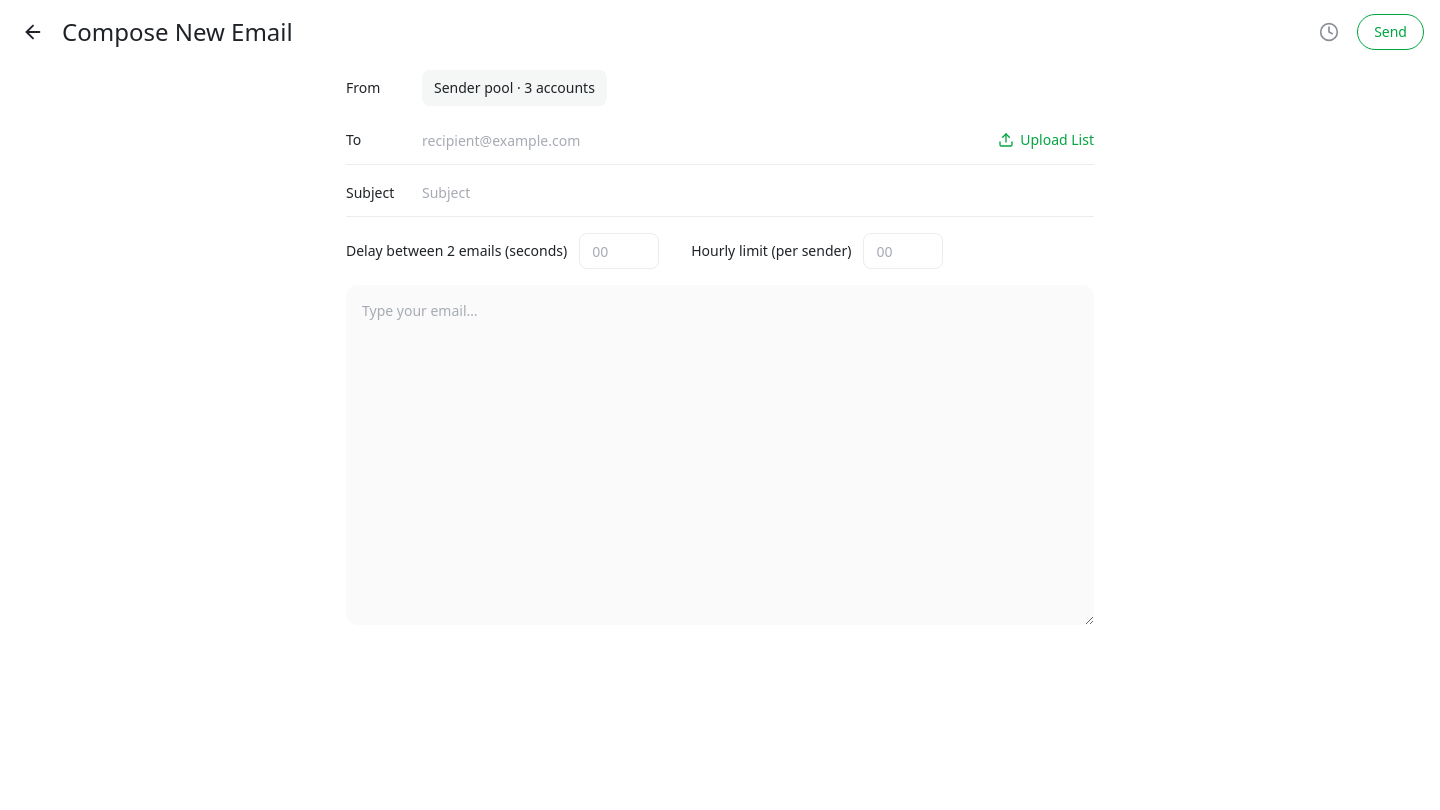
Test case: compose page › delay below 1 second and a fractional limit are rejected
Type "a@x.io, b@x.io" into the field labelled "To".
click(704, 140); type("a@x.io, b@x.io")  # box [422,124,986,156]
Then press Enter
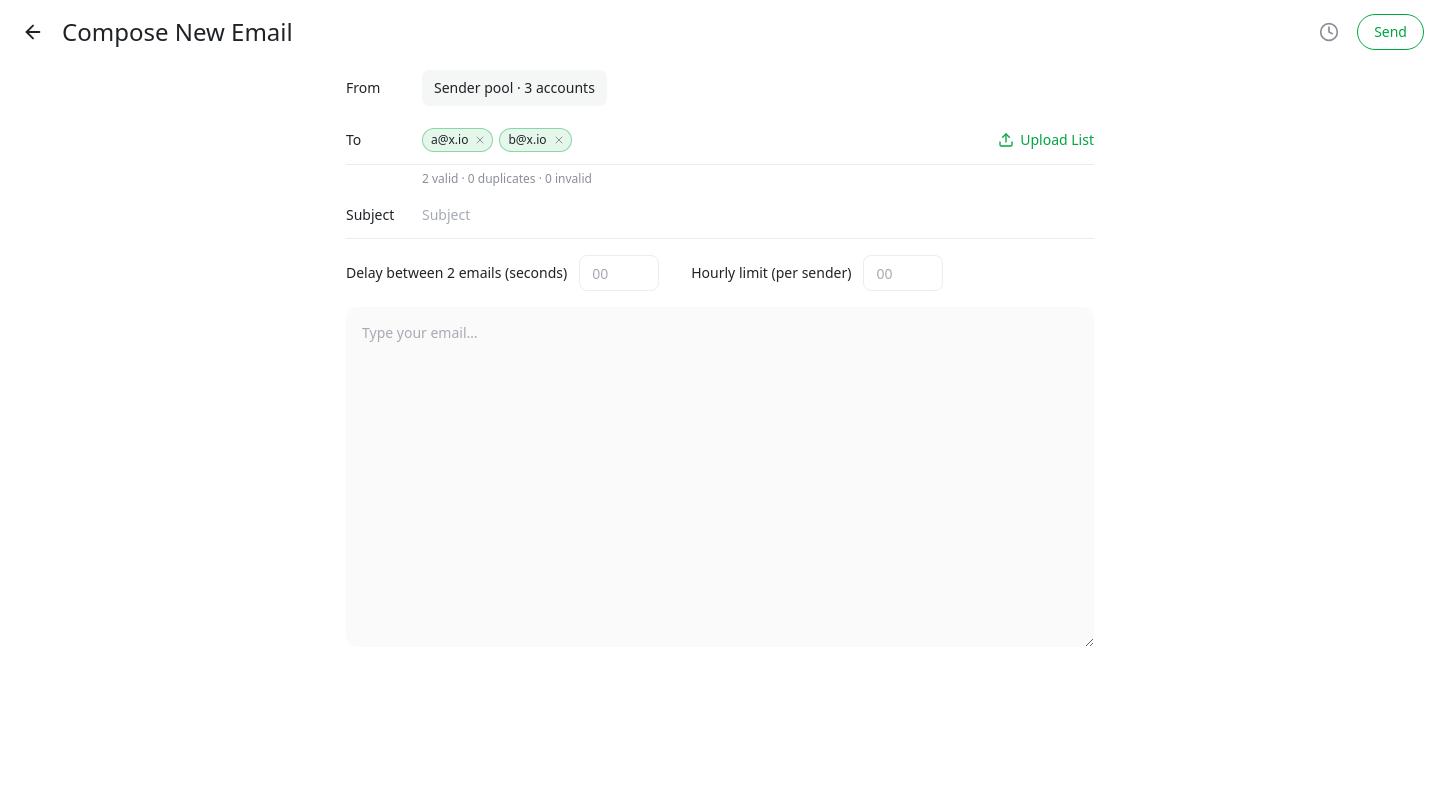
Type "Quarterly update" into the field labelled "Subject".
click(758, 214); type("Quarterly update")  # box [422,192,1094,236]
Type "2" into the number field labelled "Delay between 2 emails (seconds)".
click(619, 273); type("2")  # box [579,255,659,291]
Type "1" into the number field labelled "Hourly limit (per sender)".
click(903, 273); type("1")  # box [863,255,943,291]
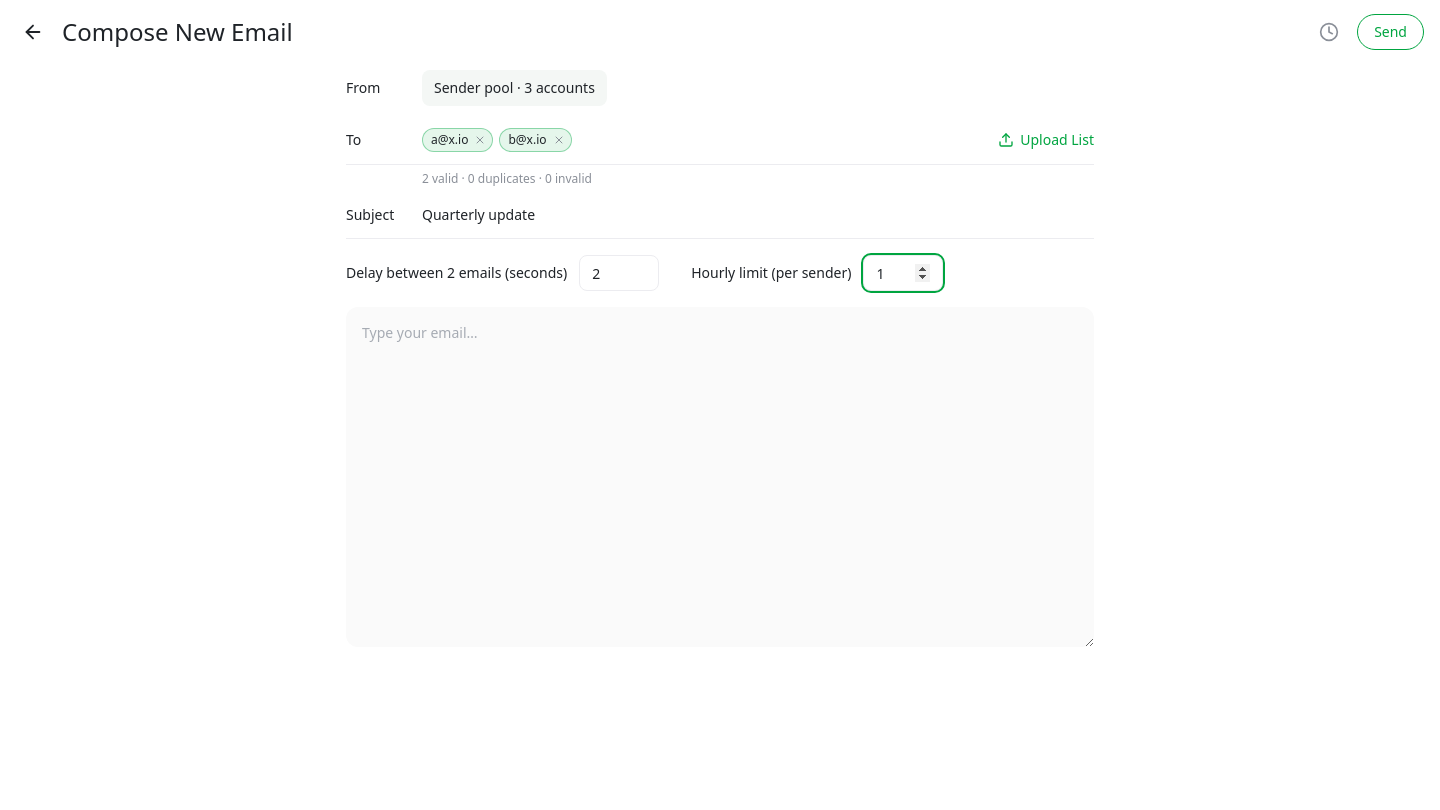
Type "Hi there" into the text box named "Body".
click(720, 477); type("Hi there")  # box [346,307,1094,647]
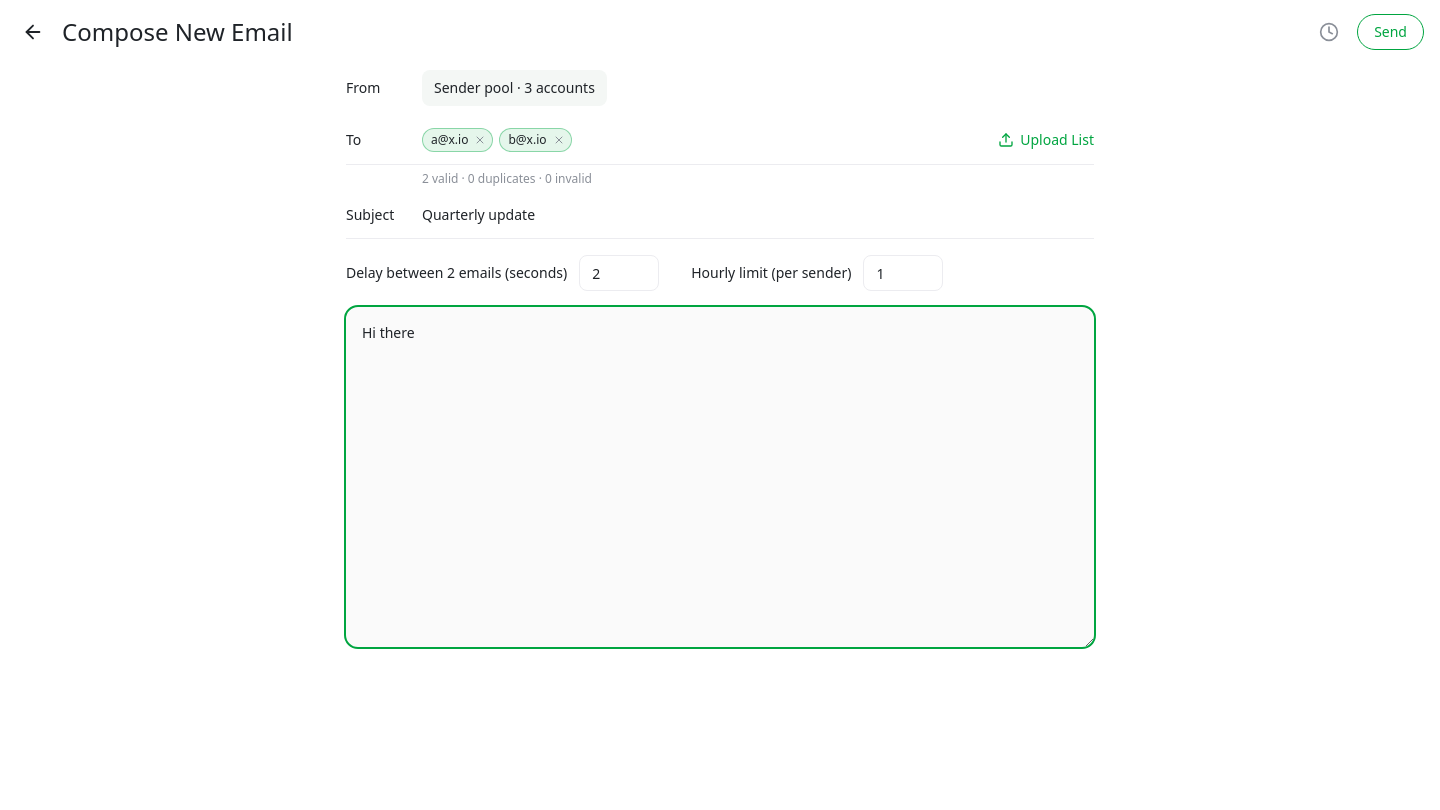
Replace the text in the number field labelled "Delay between 2 emails (seconds)" with "0.5" at (619, 273), box [579,255,659,291]
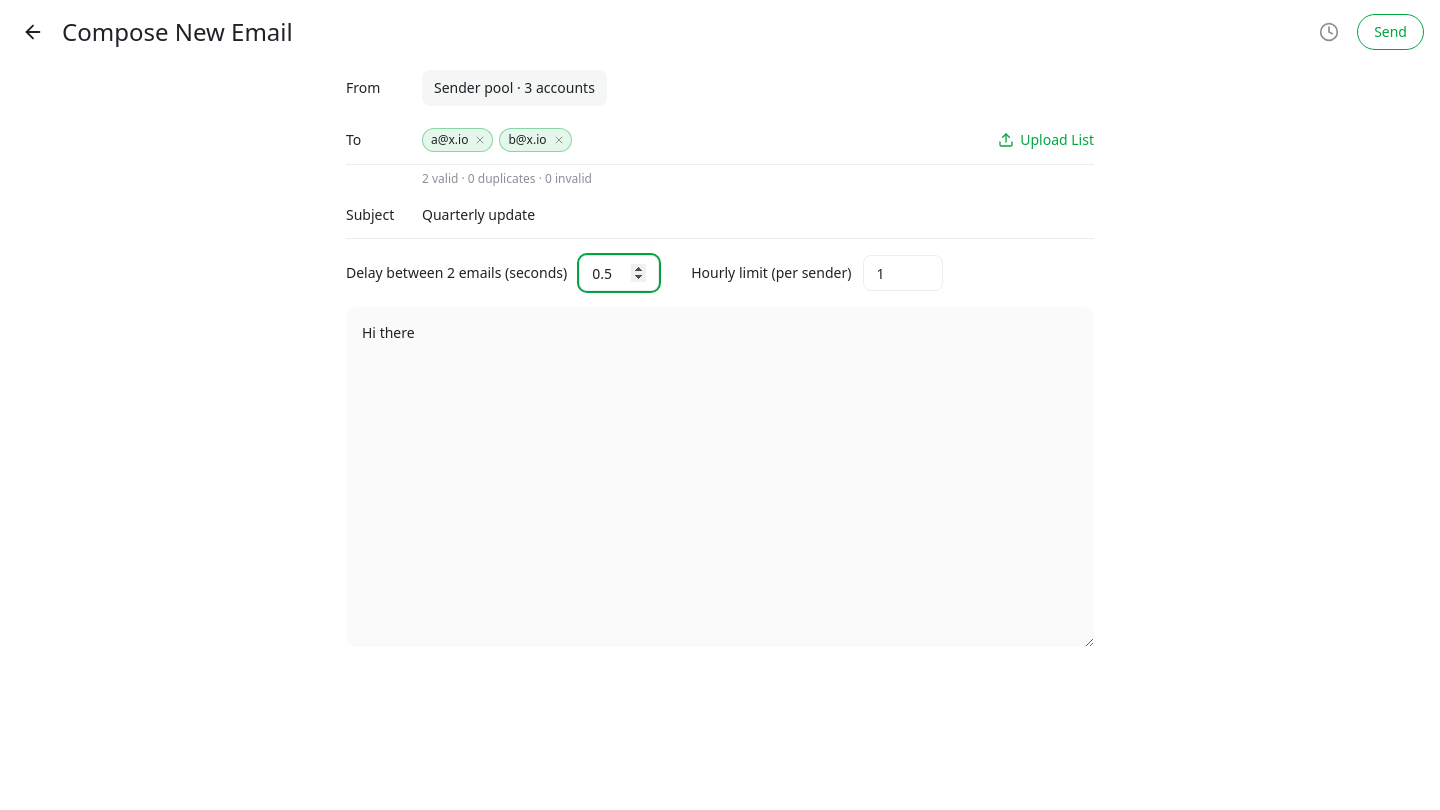
Replace the text in the number field labelled "Hourly limit (per sender)" with "1.5" at (903, 273), box [863,255,943,291]
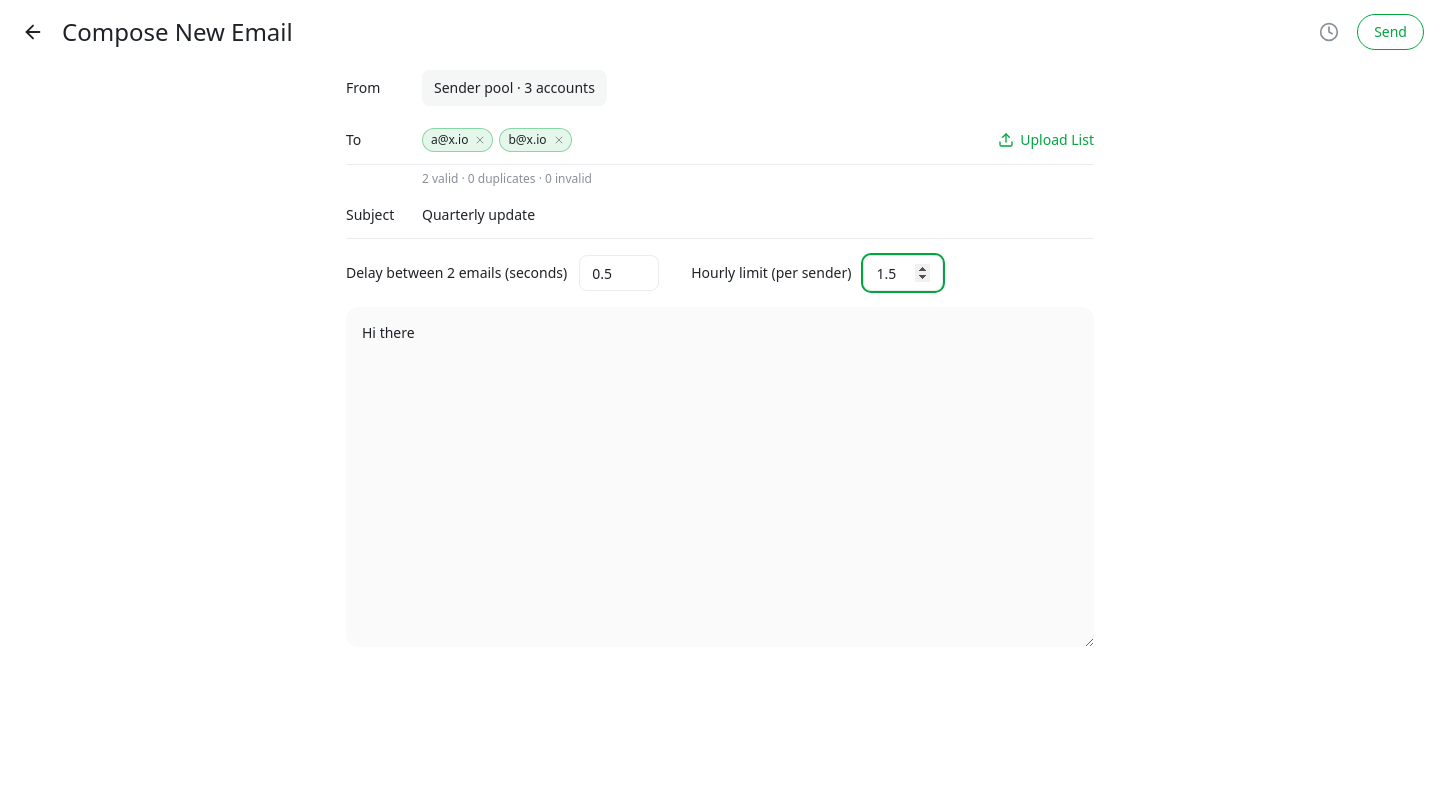
Click the button "Send".
click(1391, 32)  # box [1357,14,1424,50]
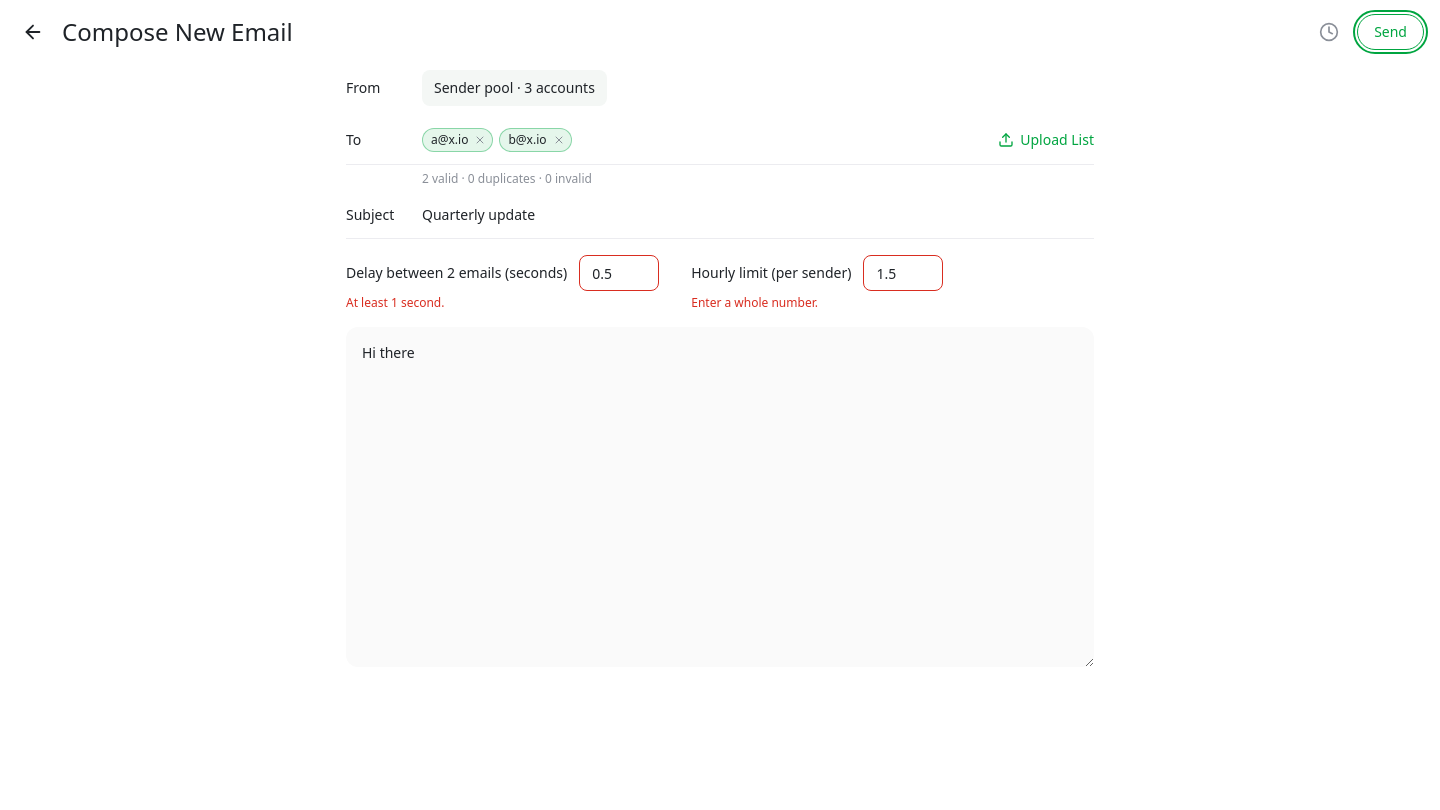
Check: the text "At least 1 second." is shown, box [346,294,444,311]
Check: the text "Enter a whole number." is shown once, box [691,294,818,311]
